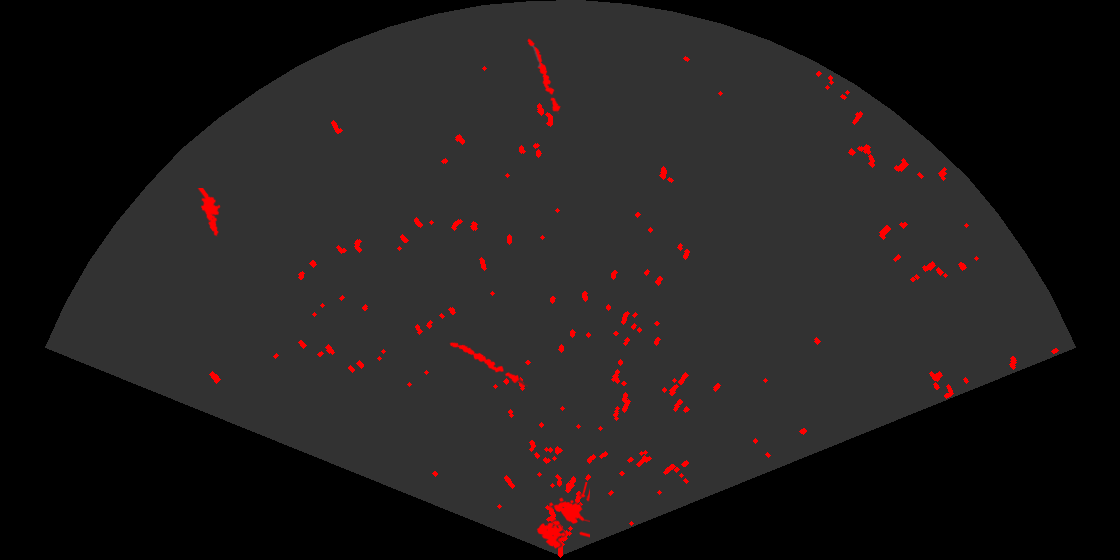cage: (535, 482, 590, 551)
chain: (448, 341, 528, 388), (526, 37, 562, 114)
frogman: (196, 188, 222, 237)
